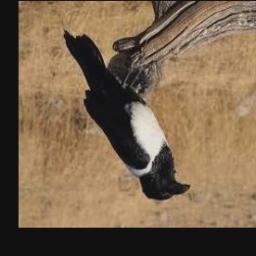Crow: (63, 29, 191, 200)
